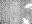person: (26, 3, 31, 10), (24, 21, 31, 23)
